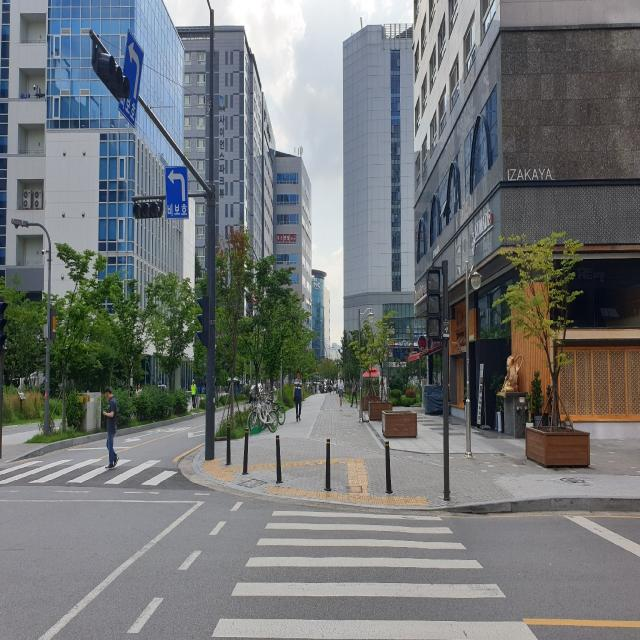횡단보도: (210, 508, 540, 639), (0, 455, 188, 496)
